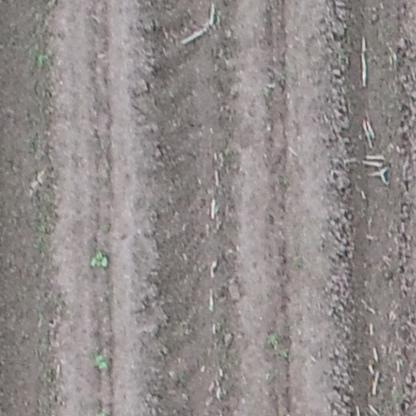vc: (88, 249, 111, 270), (94, 355, 109, 369)
